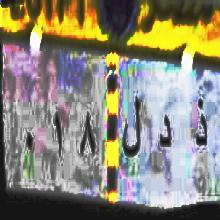0: (20, 126, 38, 161)
1: (49, 109, 66, 165)
8: (80, 110, 97, 165)
daal: (156, 111, 174, 160)
laam: (121, 90, 144, 164)
zaal: (191, 94, 211, 160)
